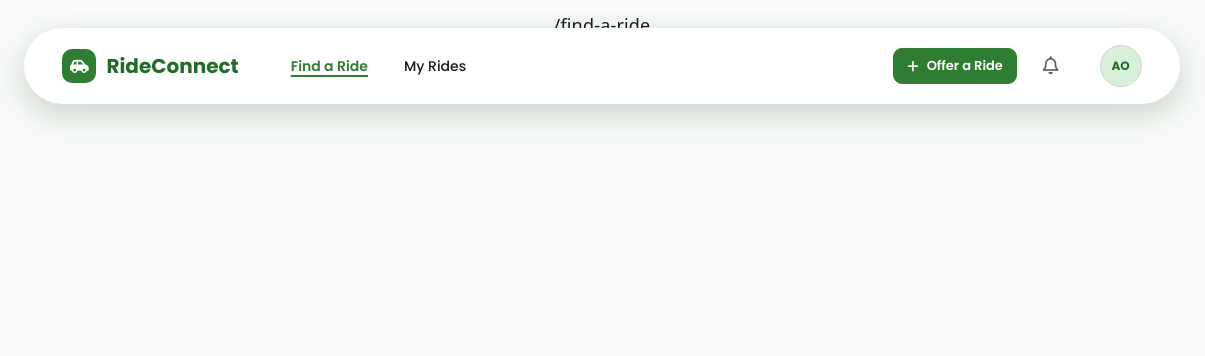
AppHeader › shows the signed-in name and address in the account menu
The width and height of the screenshot is (1205, 356).
Click the button with aria-label "Account menu" at (1121, 66), box [1100,45,1142,87]
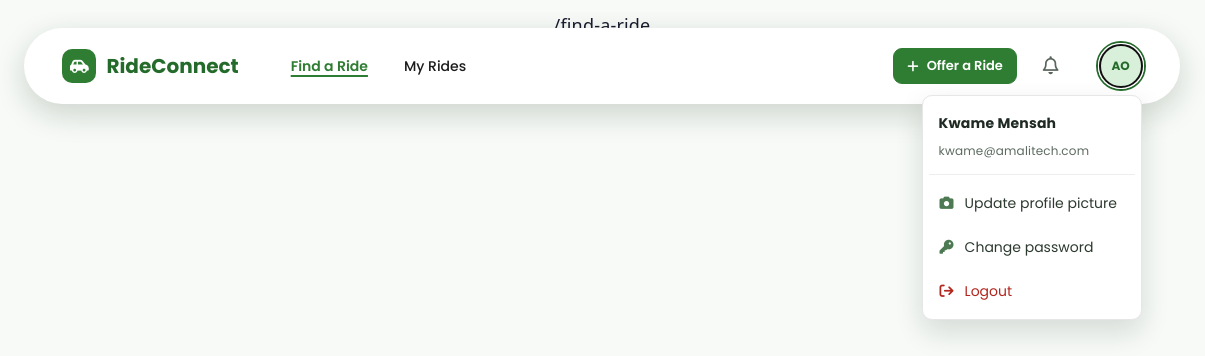
Expected: the text "Kwame Mensah" is shown, [939,113,1056,133]
Expected: the text "kwame@amalitech.com" is shown, [939,142,1089,159]
